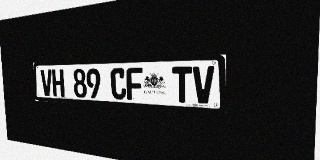8: (73, 69, 87, 98)
9: (86, 68, 101, 99)
C: (110, 68, 126, 100)
F: (126, 67, 143, 101)
H: (52, 69, 65, 97)
T: (172, 66, 192, 103)
V: (193, 66, 214, 104), (40, 69, 53, 96)
